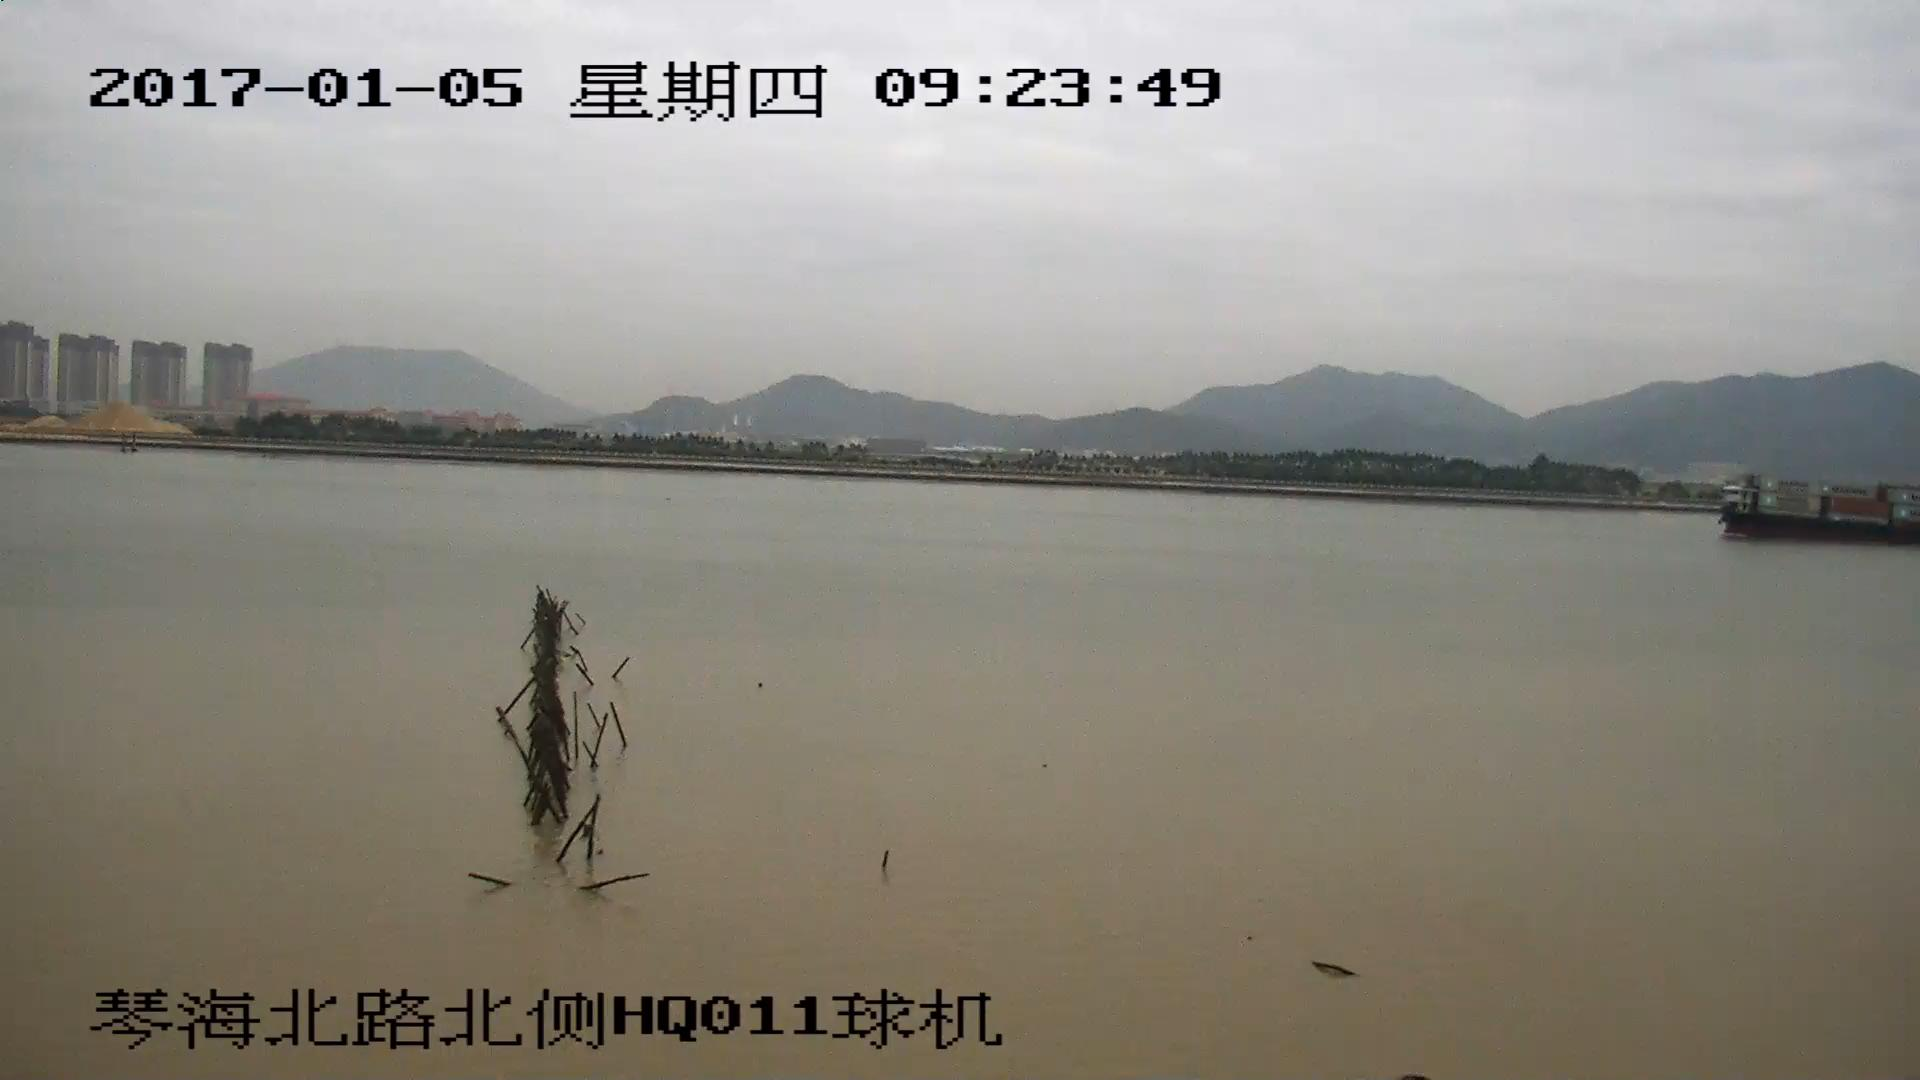container ship: (1717, 479, 1920, 541)
